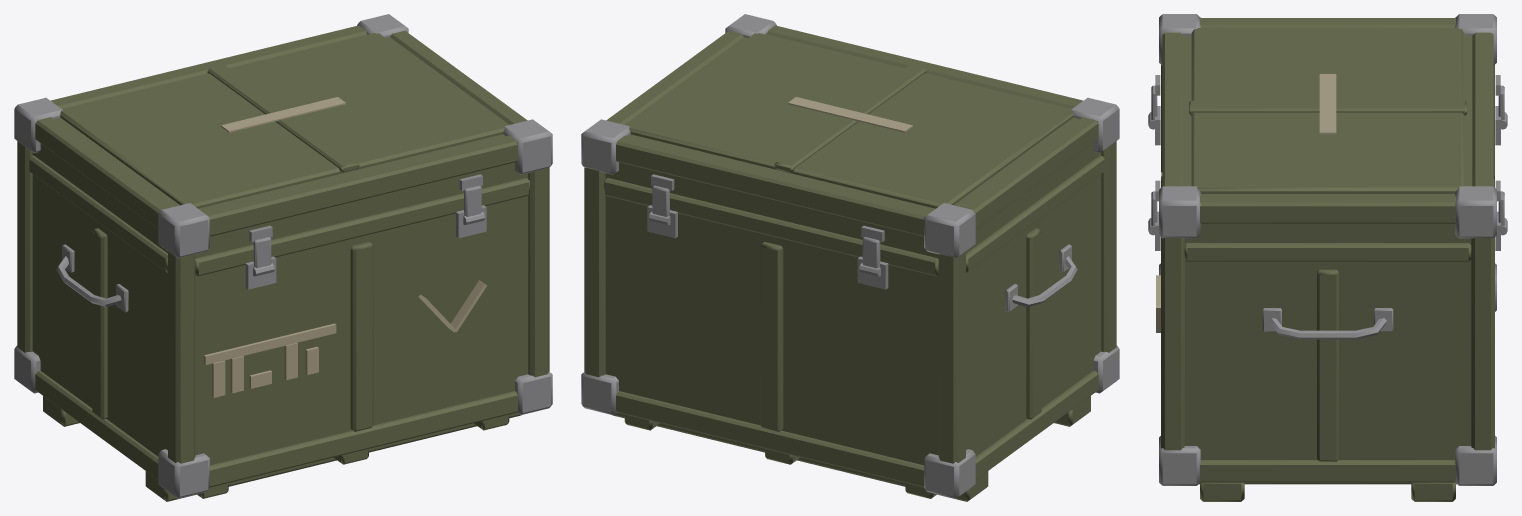
The model's file is kit_crate_large.glb.
3 renders of one model, left to right at view 1: azimuth 30°, elevation 25°; view 2: azimuth 150°, elevation 25°; view 3: azimuth 270°, elevation 25°, orthographic. The views are drawn at different scales.
Visible parts, largest first — view 1: kit_crate_large_paint, kit_crate_large_metal, kit_crate_large_mark_paint; view 2: kit_crate_large_paint, kit_crate_large_metal, kit_crate_large_mark_paint; view 3: kit_crate_large_paint, kit_crate_large_metal, kit_crate_large_mark_paint.
Part boxes in pixels (left/top/right/bottom): kit_crate_large_paint: left=17, top=25, right=549, bottom=501; kit_crate_large_metal: left=14, top=14, right=552, bottom=498; kit_crate_large_mark_paint: left=204, top=97, right=486, bottom=397; kit_crate_large_paint: left=584, top=25, right=1116, bottom=501; kit_crate_large_metal: left=581, top=14, right=1119, bottom=498; kit_crate_large_mark_paint: left=788, top=97, right=912, bottom=132; kit_crate_large_paint: left=1161, top=18, right=1494, bottom=501; kit_crate_large_metal: left=1148, top=14, right=1507, bottom=485; kit_crate_large_mark_paint: left=1156, top=74, right=1336, bottom=332.
Bounding box in the file's own units: 1.77 × 1.23 × 1.29.
